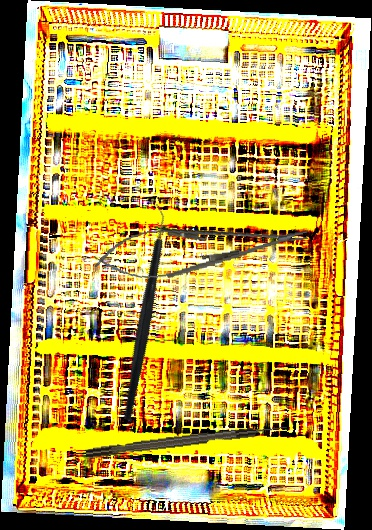Chopper: (51, 201, 233, 423)
Hook Surgical: (85, 422, 288, 459)
Needle Holder: (91, 211, 312, 287)
